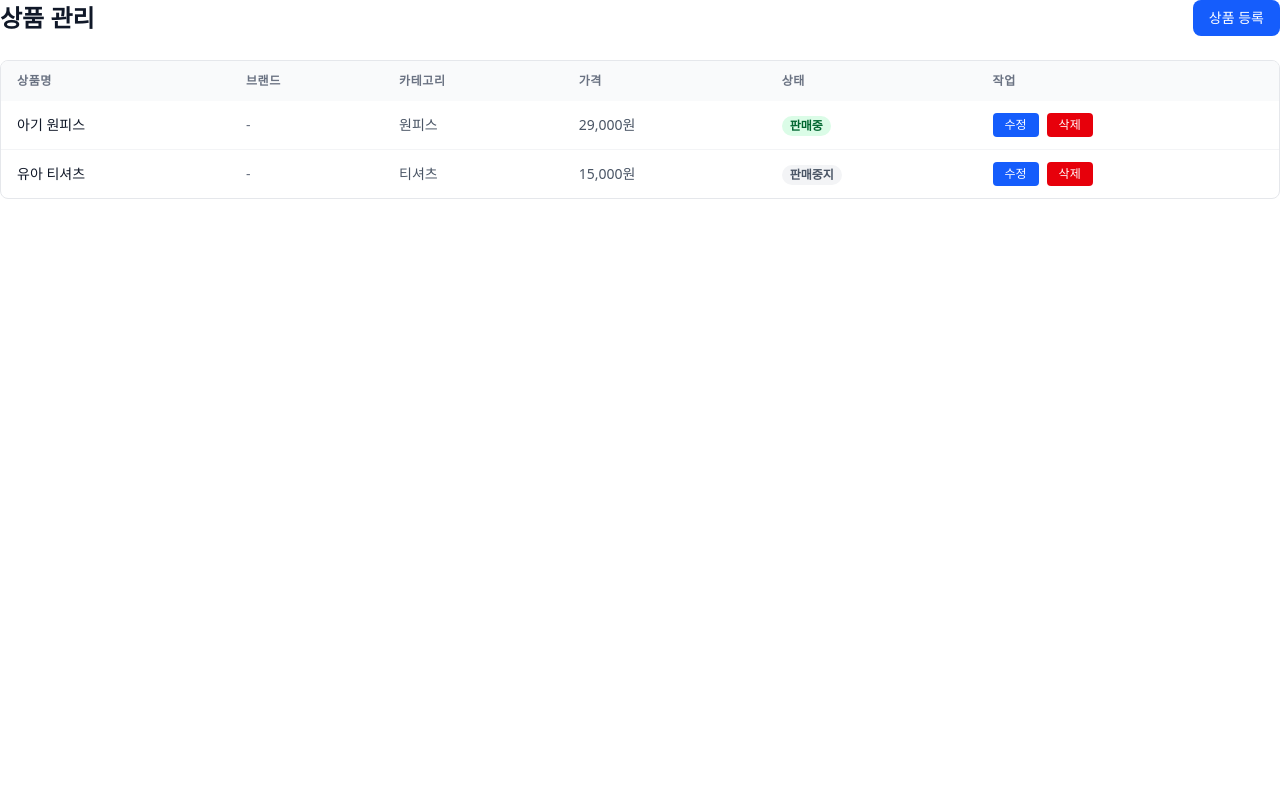
Test: AdminProductsPage › 상품 등록 폼 › 상품 등록 버튼을 클릭하면 폼 모달이 열린다
Click the button "상품 등록": (1236, 18) x1=1193 y1=0 x2=1279 y2=36
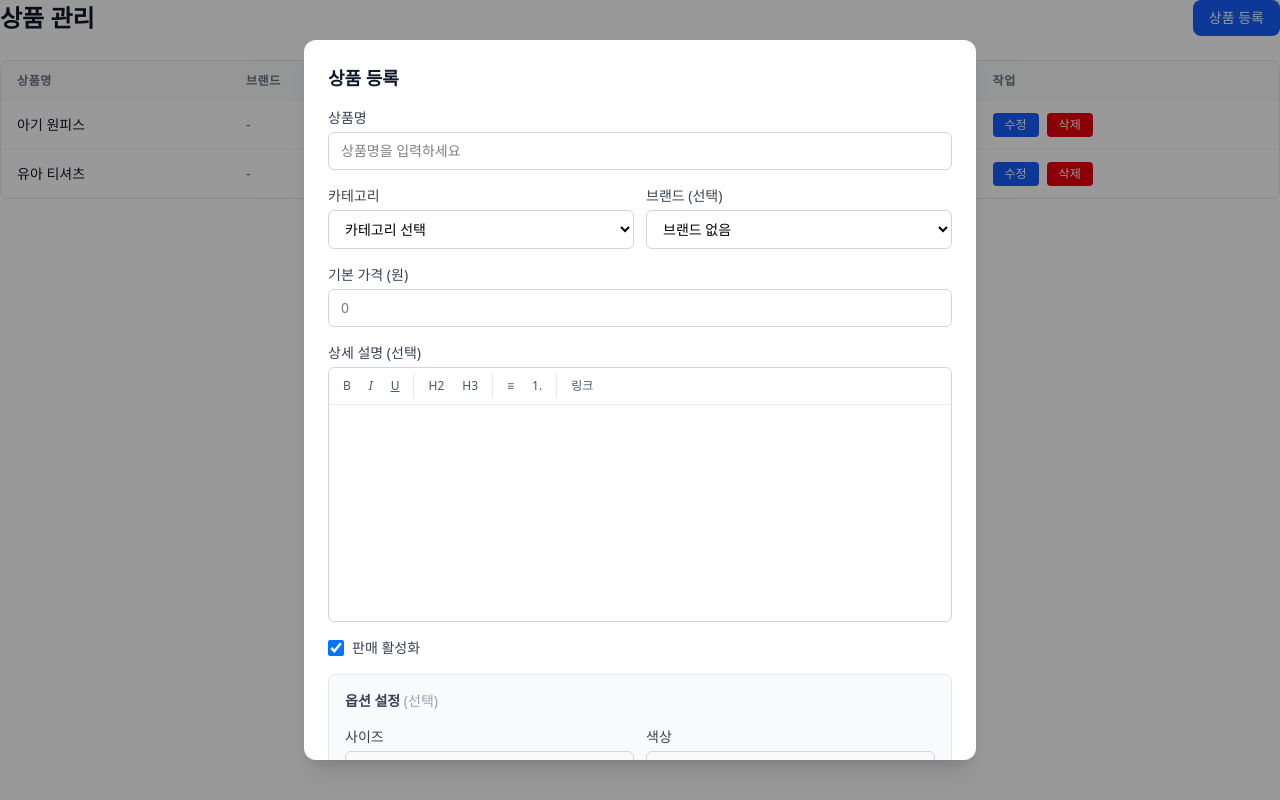
Expected: the dialog is shown, x1=304 y1=40 x2=976 y2=760
Expected: the heading "상품 등록" is shown, x1=328 y1=66 x2=399 y2=90
